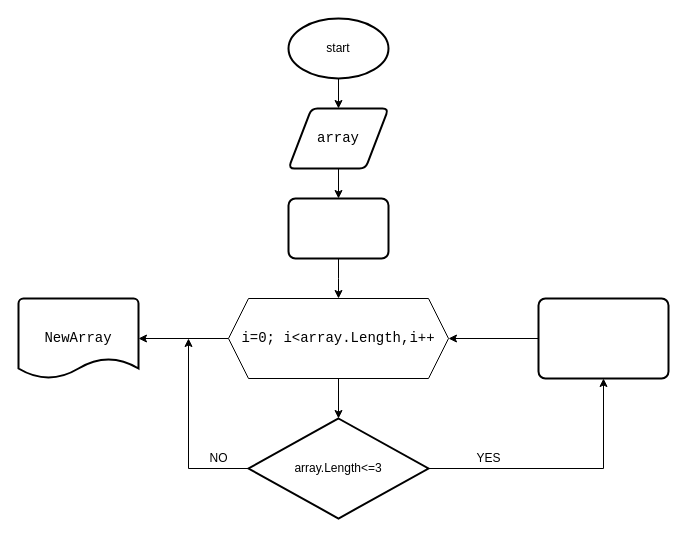
Image size: 686x536. Some labels were removed from this diagram. The shapes that lost their labels are listed below. From the top down, each one's box as (x1, y1, x2, y2) in pixels, then its label:
(287, 197, 389, 259): count = 0
(537, 297, 669, 379): count++
